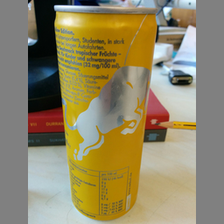soda: (54, 3, 158, 218)
